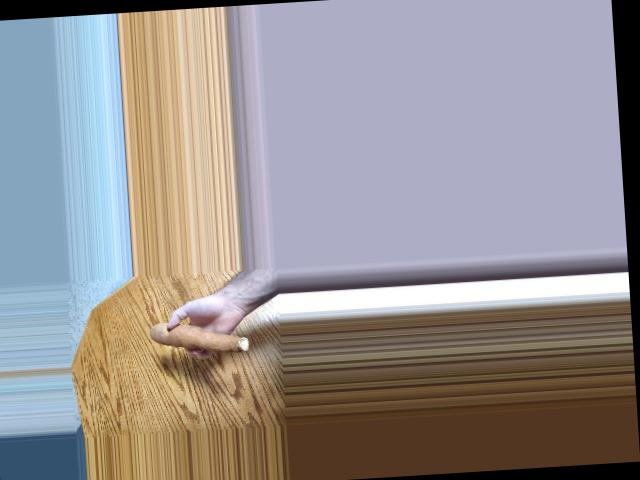sweet_potato: (144, 323, 253, 356)
